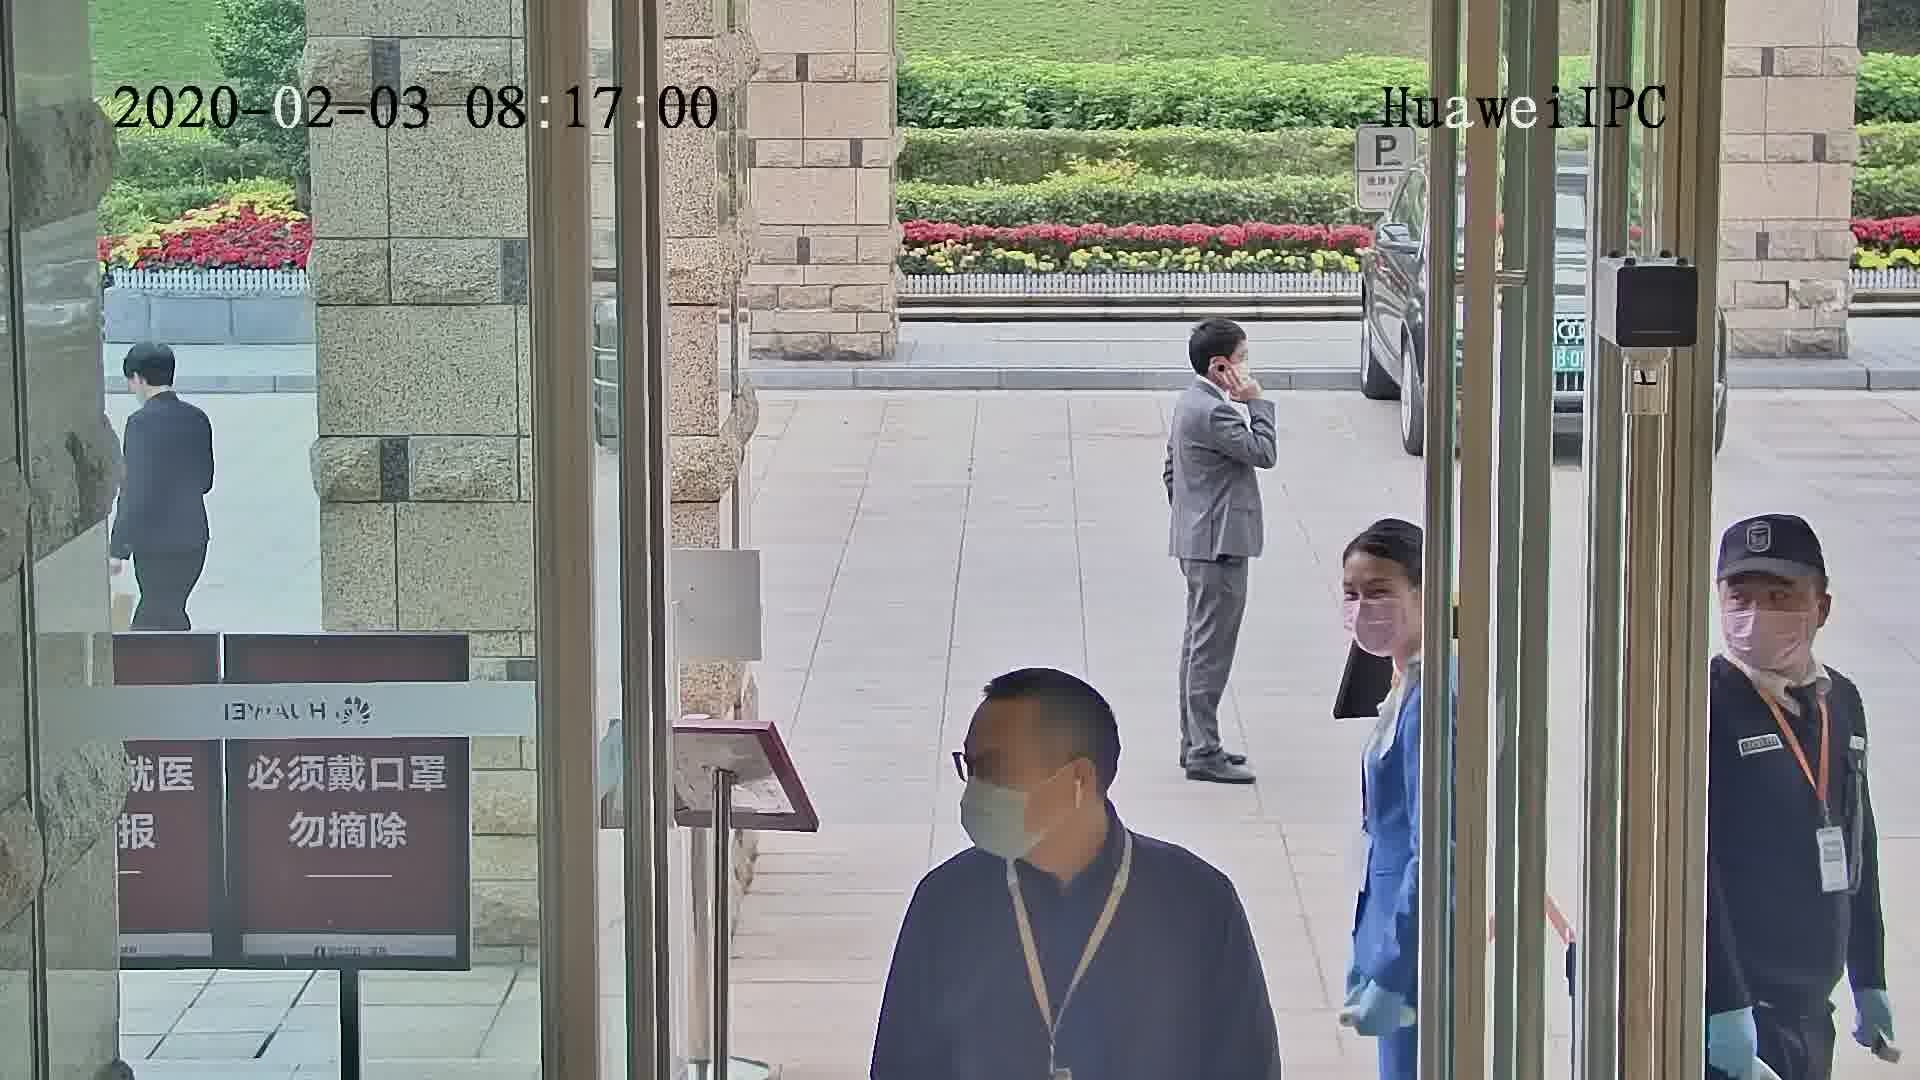face: (954, 704, 1069, 862), (1329, 549, 1429, 650), (1725, 578, 1825, 671)
mask: (960, 775, 1049, 866), (1720, 604, 1816, 678), (1338, 600, 1411, 655)
person: (904, 661, 1247, 967), (1700, 510, 1871, 767), (1335, 510, 1445, 712), (117, 339, 211, 443), (1172, 317, 1262, 423)
